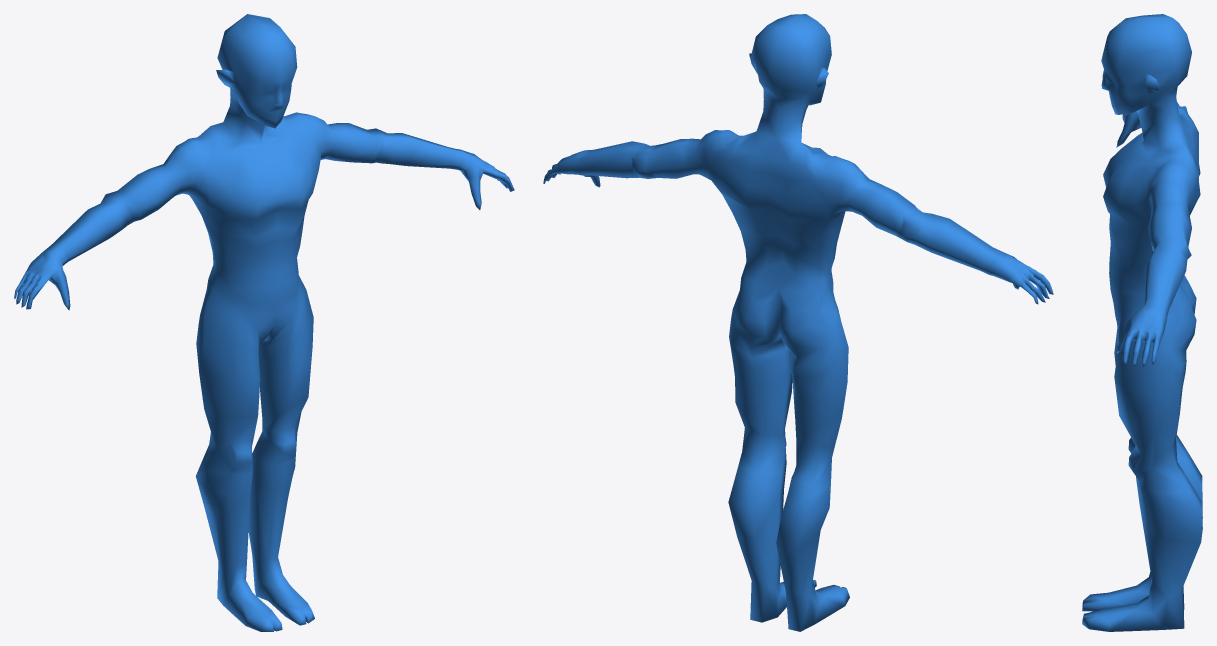
Rendered from Male-Character.glb.
The picture shows the model from 3 angles, left to right: view 1: azimuth 30°, elevation 25°; view 2: azimuth 150°, elevation 25°; view 3: azimuth 270°, elevation 25°; orthographic projection. The views are drawn at different scales.
Parts seen in each view (by area): view 1: ELFEBEN 2024 MALE; view 2: ELFEBEN 2024 MALE; view 3: ELFEBEN 2024 MALE.
Boxes of the visible parts, box(x1,y1,x2,y2) form: ELFEBEN 2024 MALE: box(14, 14, 514, 631); ELFEBEN 2024 MALE: box(543, 14, 1053, 631); ELFEBEN 2024 MALE: box(1082, 14, 1202, 631).
Size of the model in its own units: 1.71 by 1.94 by 0.3539.
